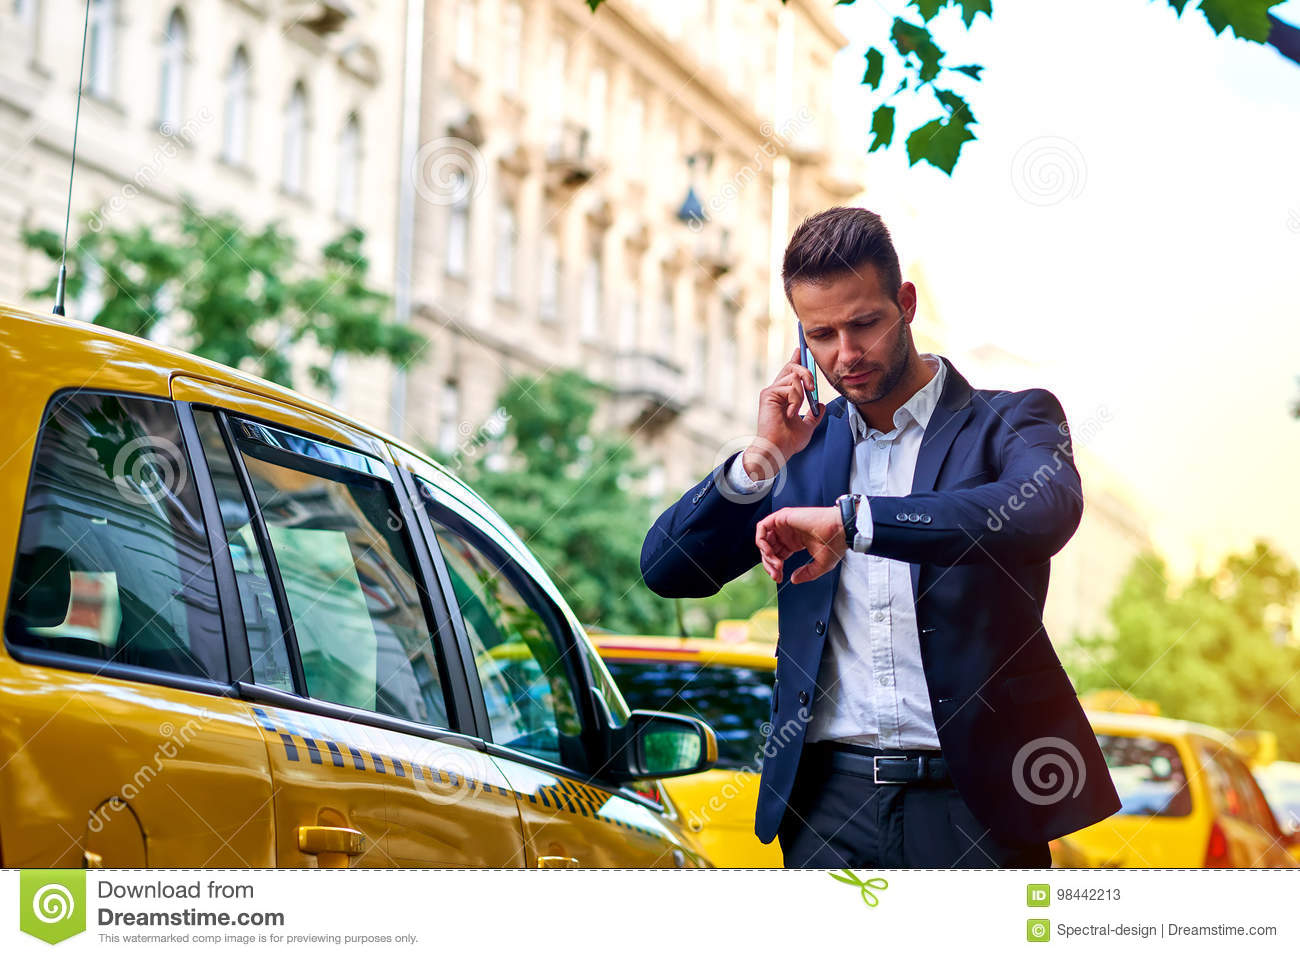phone: (793, 314, 828, 422)
talk: (746, 293, 898, 471)
